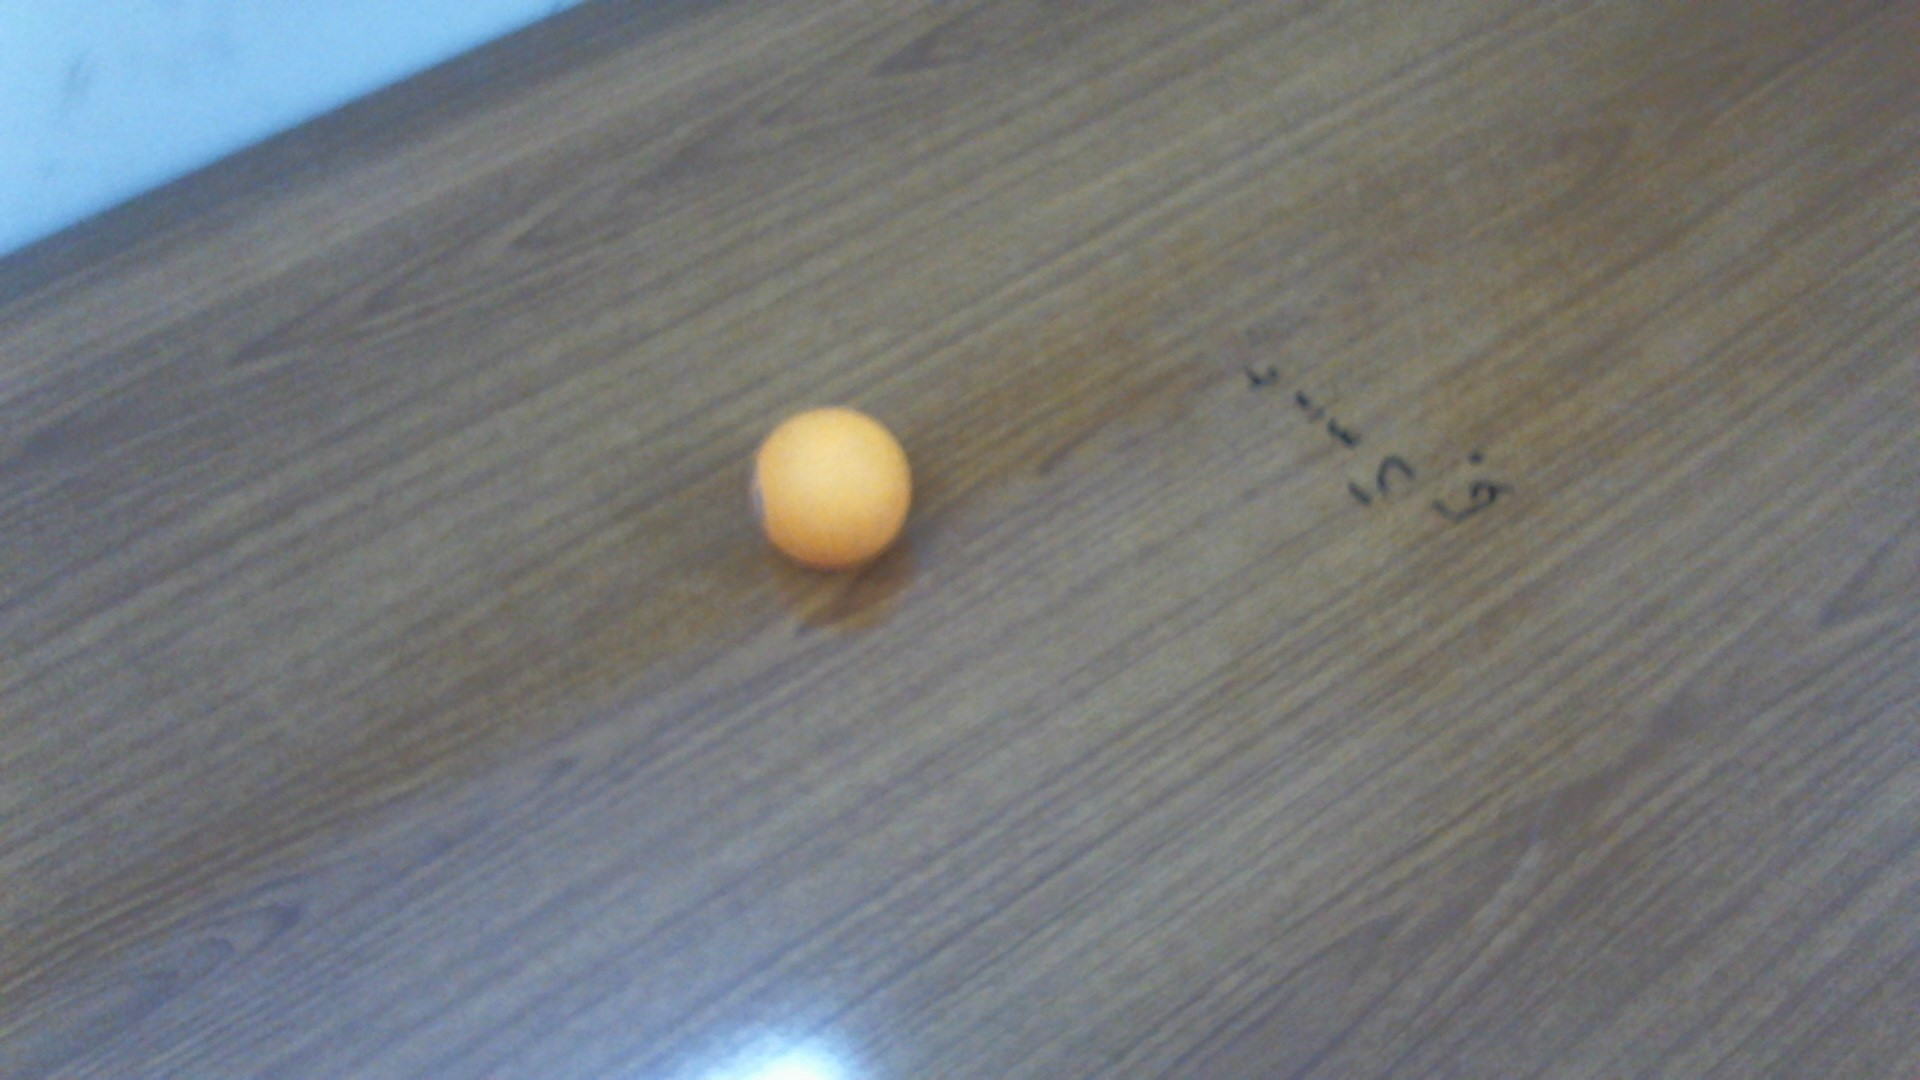ball: (746, 402, 913, 571)
